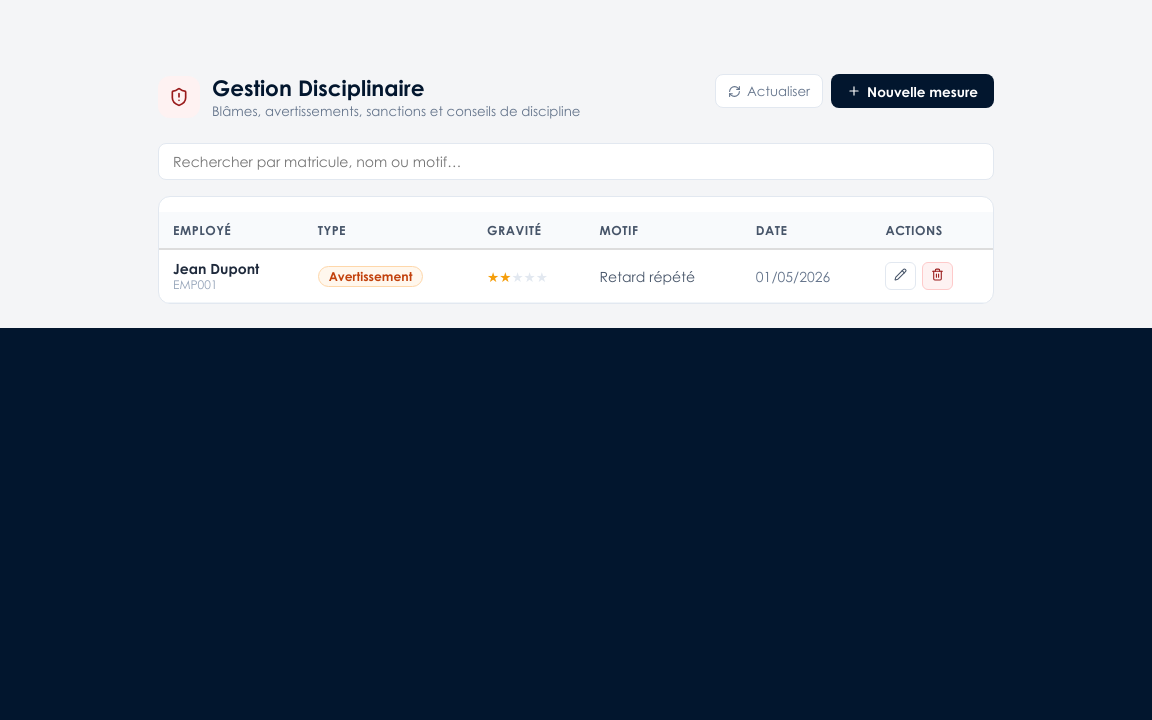
DisciplinairePage › le bouton Nouvelle mesure ouvre le modal
This screenshot has width=1152, height=720.
Click the button "Nouvelle mesure": (913, 91) [831,74,994,108]
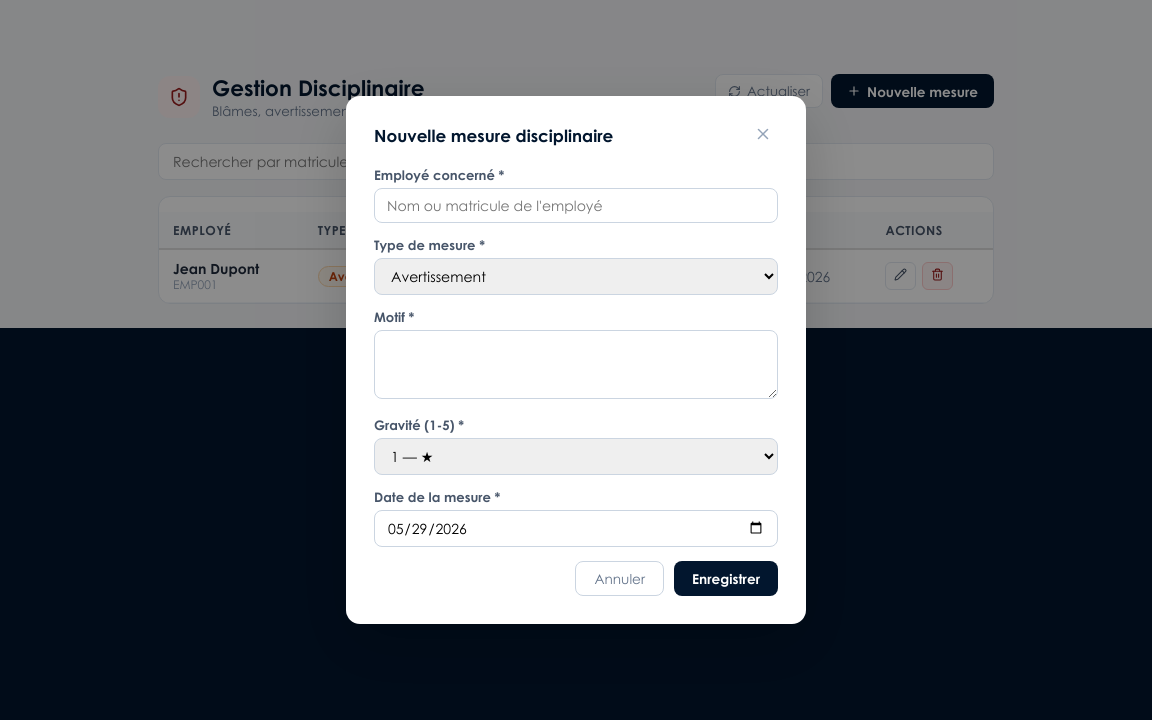
Now the text "Employé concerné" is shown, box [374,167,504,183]
